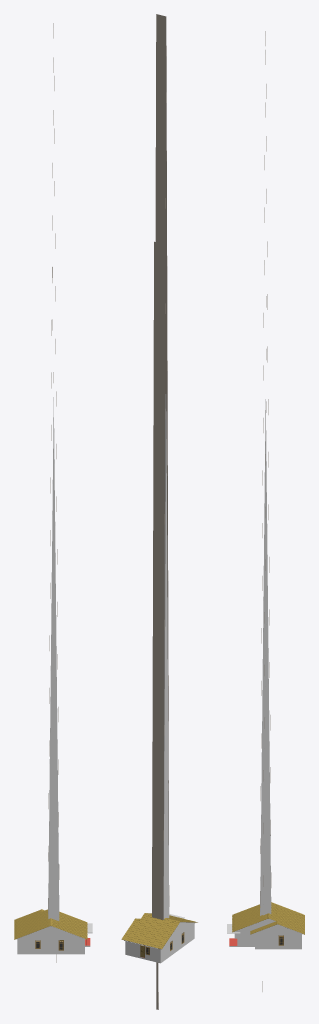
Rendered from DesignRumah.fbx.
3 views of the same model, side by side, from view 1: azimuth 90°, elevation 25°; view 2: azimuth 150°, elevation 25°; view 3: azimuth 270°, elevation 25° (orthographic).
Parts seen in each view (by area): view 1: Cube.025, bangunan utama, Cube.003, Cube.004, Cube.040, gemteng; view 2: Cube.003, Cube.025, bangunan utama, Cube.040, Cube.004, Cube.038; view 3: Cube.025, bangunan utama, Cube.003, Cube.004, gemteng, Cube.040.
Part boxes in pixels (x1,y1,x2,y2): Cube.025: (48,397,59,940); bangunan utama: (17,923,92,954); Cube.003: (48,23,59,962); Cube.004: (16,926,85,939); Cube.040: (16,910,40,938); gemteng: (53,911,84,938); Cube.003: (152,14,169,1009); Cube.025: (163,394,169,919); bangunan utama: (125,914,194,963); Cube.040: (123,919,174,947); Cube.004: (124,922,195,948); Cube.038: (139,915,178,929); Cube.025: (260,399,271,915); bangunan utama: (227,924,301,949); Cube.003: (260,31,271,991); Cube.004: (233,919,303,934); gemteng: (234,904,265,930); Cube.040: (279,905,302,933).
Bounding box in the file's own units: 802 × 18771 × 1339.
